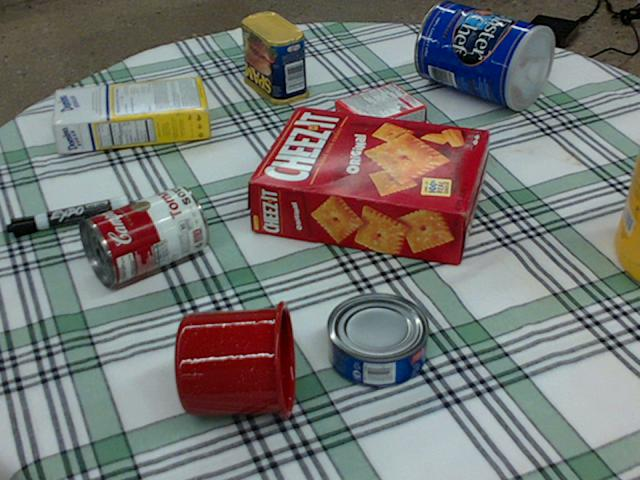cracker_box: (248, 104, 488, 262)
gelatin_box: (332, 79, 425, 144)
large_marker: (5, 195, 127, 237)
master_chef_can: (413, 1, 552, 109)
mug: (173, 297, 296, 418)
mustard_bottle: (614, 143, 639, 280)
potted_meat_can: (240, 11, 308, 103)
sugar_box: (52, 77, 209, 152)
tomato_soup_can: (78, 184, 207, 286)
tuna_fish_can: (326, 292, 429, 388)
